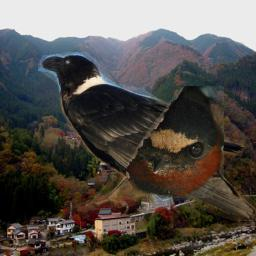Crow: (38, 49, 256, 221)
Swallow: (126, 86, 224, 198)
